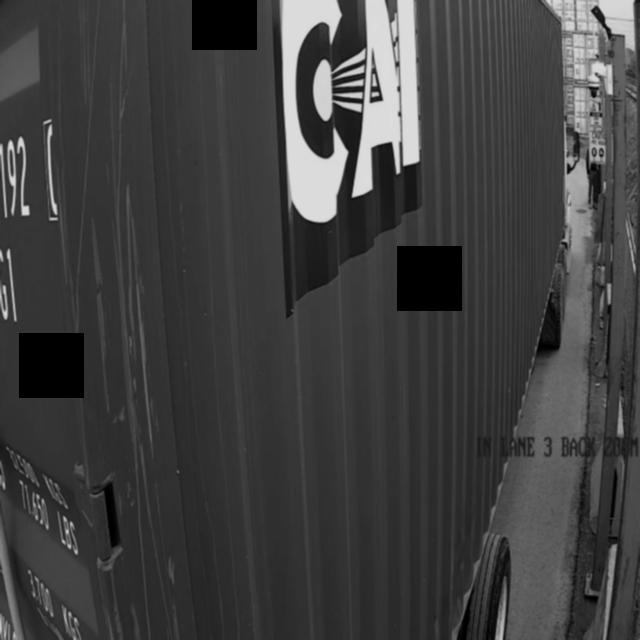container_company_logo: (267, 0, 434, 336)
container_number: (0, 107, 74, 328)
other_container_info: (0, 439, 96, 631)
truck_with_container: (0, 0, 570, 640)
